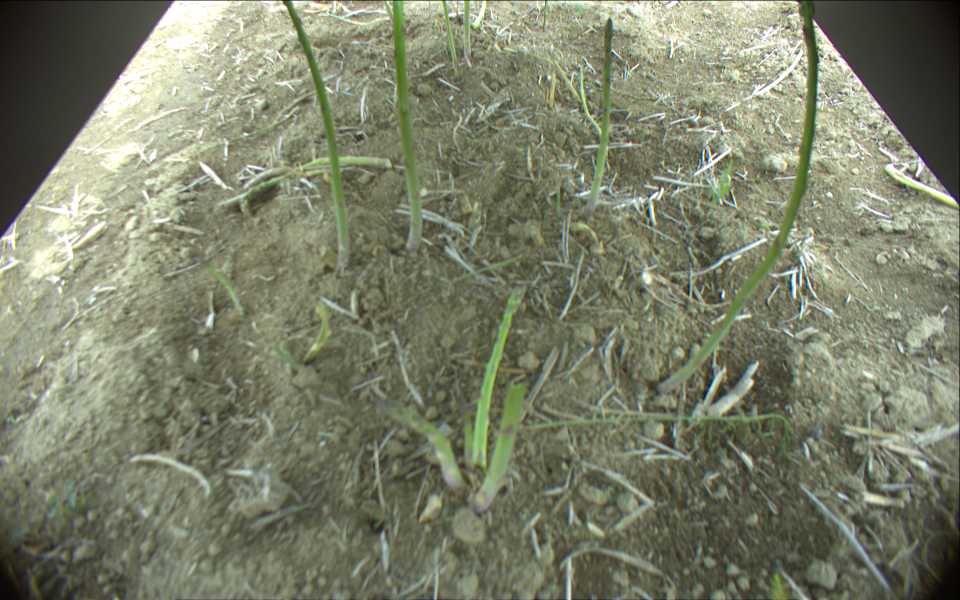aspa: (658, 1, 820, 398), (278, 1, 351, 269), (388, 1, 425, 250), (528, 414, 795, 442), (381, 405, 467, 491), (583, 17, 617, 222), (473, 380, 526, 509), (186, 250, 249, 313), (888, 164, 960, 209), (294, 306, 331, 371), (440, 1, 459, 69), (461, 1, 474, 59), (471, 1, 488, 29)
